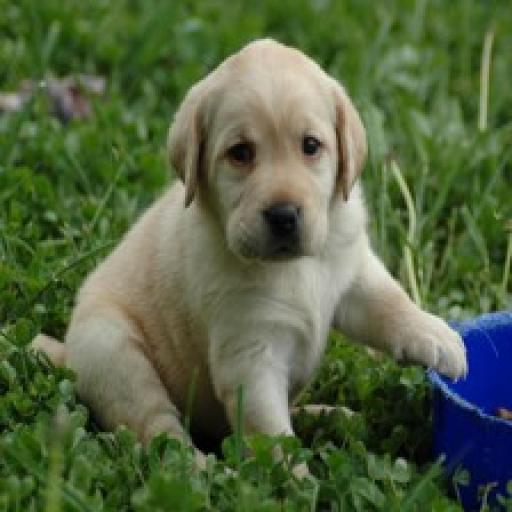dog: (15, 30, 477, 500)
